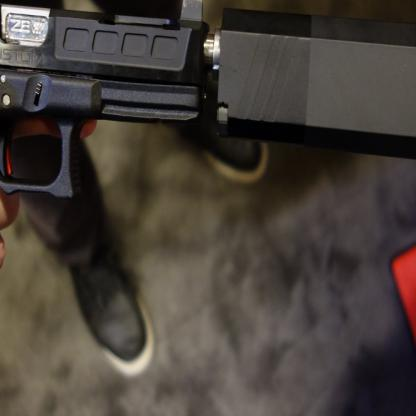gun: (0, 0, 216, 415)
